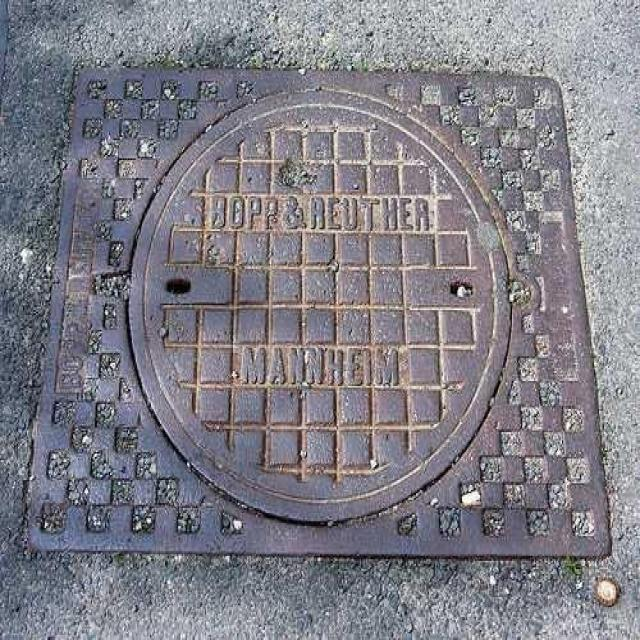manhole: (24, 68, 613, 564)
